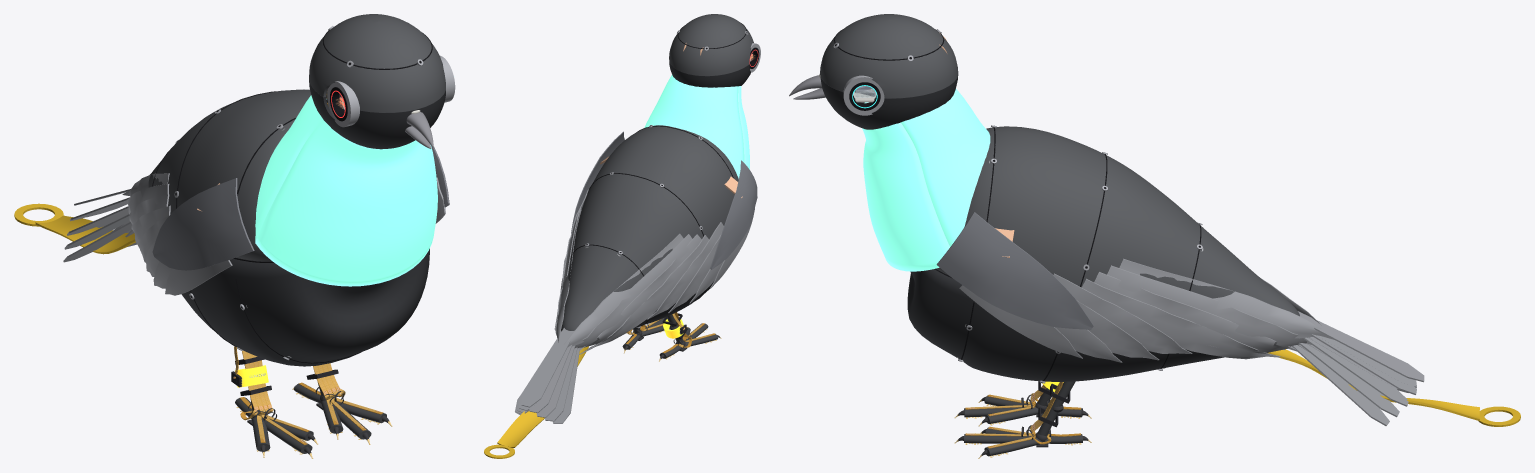
File: pigeon_osfp_dr8.glb
3 views of the same model, side by side, from view 1: azimuth 30°, elevation 25°; view 2: azimuth 150°, elevation 25°; view 3: azimuth 270°, elevation 25° (orthographic). The views are drawn at different scales.
Parts seen in each view (by area): view 1: skin_front_neck, skin_belly_body, skin_back_body, skin_head_cranium, wing_right_covert_heat_spreader, wing_right_flight_feather_fins, skin_head_jaw, skin_back_neck, tail_fan_fins, foot_rx_toes_x4, leash_pull_tab_strap, foot_tx_toes_x4 (+6 smaller); view 2: skin_back_body, wing_right_flight_feather_fins, skin_back_neck, skin_head_cranium, tail_fan_fins, wing_right_covert_heat_spreader, skin_head_jaw, wing_left_flight_feather_fins, leash_pull_tab_strap, wing_left_covert_heat_spreader, skin_panel_seams, foot_tx_toes_x4 (+3 smaller); view 3: skin_back_body, wing_left_flight_feather_fins, skin_belly_body, skin_front_neck, skin_head_cranium, wing_left_covert_heat_spreader, skin_back_neck, tail_fan_fins, skin_head_jaw, foot_rx_toes_x4, foot_tx_toes_x4, leash_pull_tab_strap (+1 smaller).
Boxes of the visible parts, x1,y1,x2,y2 form: skin_front_neck: [255, 120, 437, 286]; skin_belly_body: [181, 248, 429, 366]; skin_back_body: [148, 89, 310, 261]; skin_head_cranium: [309, 14, 445, 112]; wing_right_covert_heat_spreader: [152, 178, 254, 270]; wing_right_flight_feather_fins: [122, 173, 232, 295]; skin_head_jaw: [309, 80, 445, 149]; skin_back_neck: [255, 95, 326, 241]; tail_fan_fins: [63, 189, 136, 262]; foot_rx_toes_x4: [294, 383, 386, 439]; leash_pull_tab_strap: [35, 215, 135, 254]; foot_tx_toes_x4: [235, 397, 313, 453]; skin_back_body: [561, 125, 738, 330]; wing_right_flight_feather_fins: [563, 208, 754, 354]; skin_back_neck: [644, 74, 744, 178]; skin_head_cranium: [669, 14, 753, 75]; tail_fan_fins: [515, 328, 579, 423]; wing_right_covert_heat_spreader: [710, 160, 757, 269]; skin_head_jaw: [669, 62, 750, 87]; wing_left_flight_feather_fins: [554, 189, 588, 343]; leash_pull_tab_strap: [497, 346, 588, 447]; wing_left_covert_heat_spreader: [571, 131, 624, 233]; skin_panel_seams: [561, 23, 746, 331]; foot_tx_toes_x4: [659, 323, 717, 358]; skin_back_body: [936, 126, 1299, 316]; wing_left_flight_feather_fins: [959, 258, 1333, 362]; skin_belly_body: [907, 269, 1223, 381]; skin_front_neck: [862, 102, 949, 271]; skin_head_cranium: [820, 14, 958, 98]; wing_left_covert_heat_spreader: [936, 212, 1093, 329]; skin_back_neck: [901, 89, 990, 246]; tail_fan_fins: [1291, 311, 1424, 425]; skin_head_jaw: [820, 74, 958, 129]; foot_rx_toes_x4: [964, 427, 1082, 456]; foot_tx_toes_x4: [964, 395, 1082, 423]; leash_pull_tab_strap: [1268, 349, 1479, 420].
Bounding box in the file's own units: 0.0507 × 0.0938 × 0.1513.
Materials: 98 (14 with a texture image).
